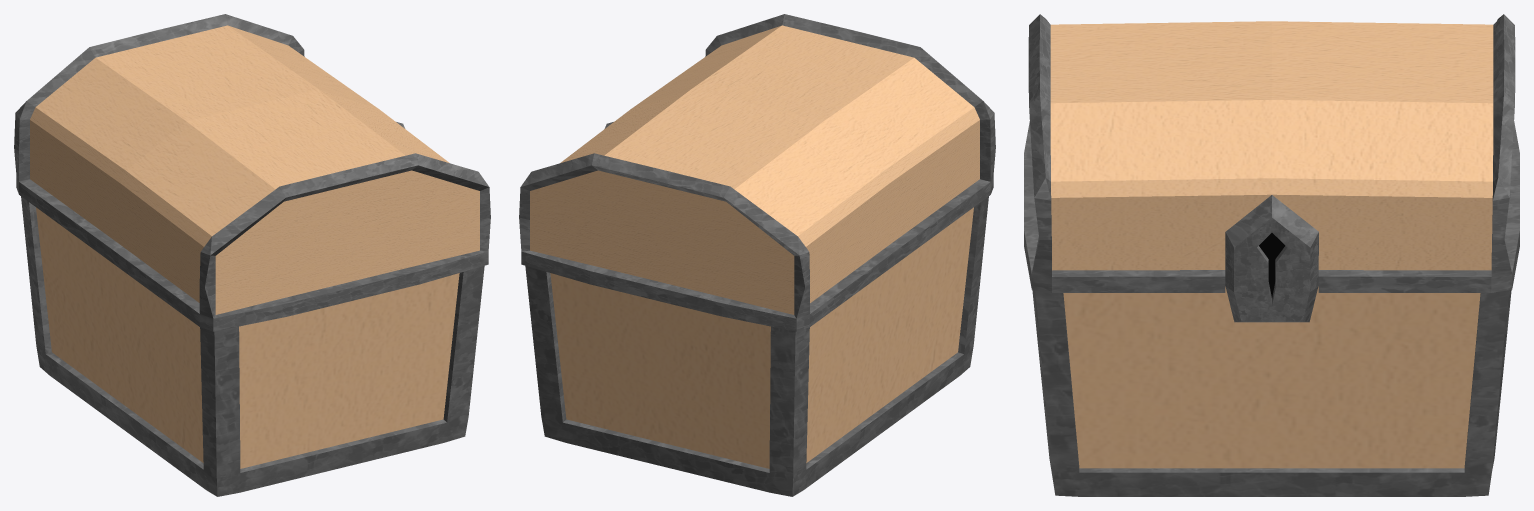
The model's file is Open Chest.fbx.
3 views of the same model, side by side, from view 1: azimuth 30°, elevation 25°; view 2: azimuth 150°, elevation 25°; view 3: azimuth 270°, elevation 25° (orthographic). The views are drawn at different scales.
Visible parts, largest first — view 1: Top, Box; view 2: Top, Box; view 3: Top, Box.
Part boxes in pixels (bbox=[...]): Top: bbox=[14, 14, 490, 331]; Box: bbox=[21, 196, 484, 496]; Top: bbox=[519, 14, 995, 331]; Box: bbox=[525, 196, 988, 496]; Top: bbox=[1024, 14, 1519, 322]; Box: bbox=[1032, 286, 1511, 496].
Size of the model in its own units: 8.89 by 8.8 by 10.66.
Materials: 1 (1 with a texture image).
